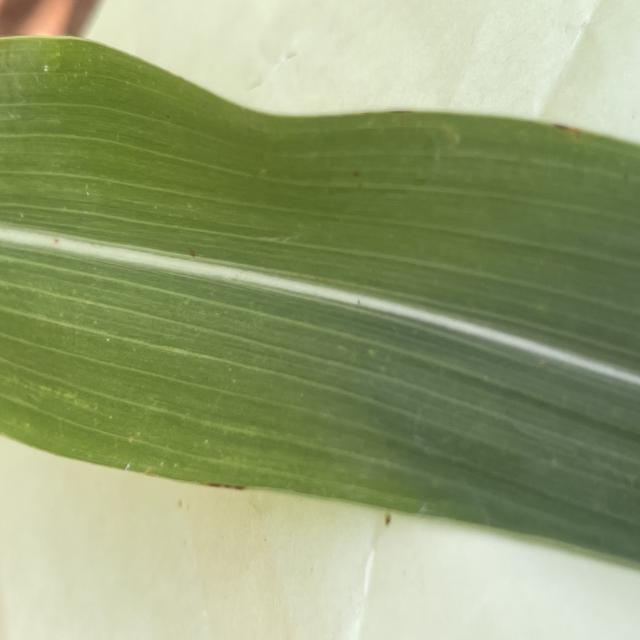millet_healthy: (1, 36, 640, 559)
